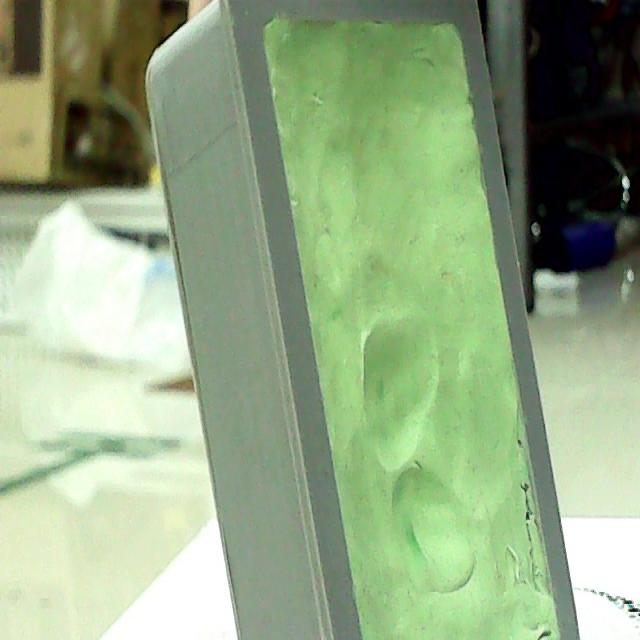block: (136, 1, 583, 640)
